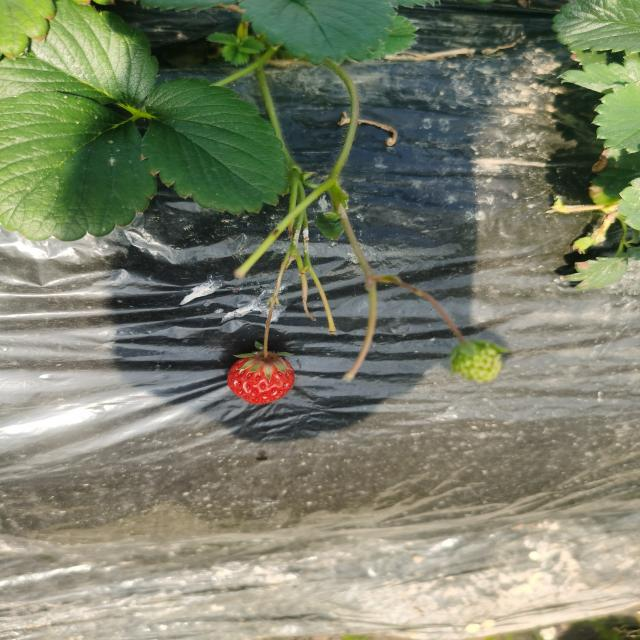stem: (264, 331, 269, 360)
strawberry: (227, 353, 295, 404)
